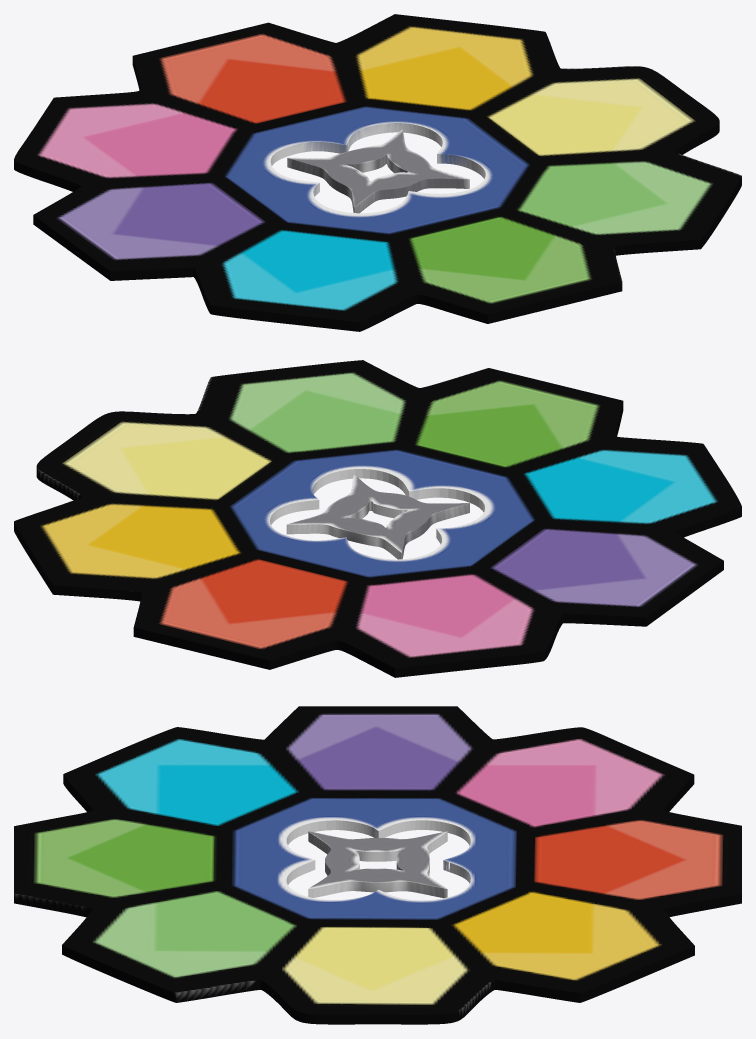
The picture shows the model from 3 angles, top to bottom: view 1: azimuth 30°, elevation 25°; view 2: azimuth 150°, elevation 25°; view 3: azimuth 270°, elevation 25°; orthographic projection. The views are drawn at different scales.
Parts seen in each view (by area): view 1: path26; view 2: path26; view 3: path26.
Part boxes in pixels (bbox=[...]): path26: bbox=[14, 14, 741, 331]; path26: bbox=[14, 360, 741, 677]; path26: bbox=[14, 706, 741, 1024].
Bounding box in the file's own units: 103 × 1.5 × 102.
1 material, 1 textured.
